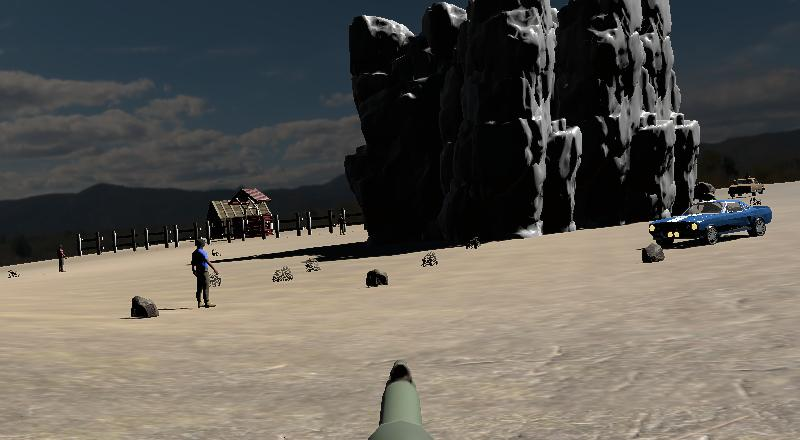Human: (189, 236, 219, 311)
car: (645, 196, 775, 251), (726, 173, 769, 200)
